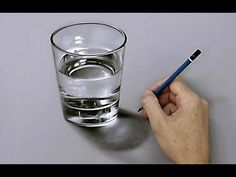glass of water: (47, 24, 131, 131)
